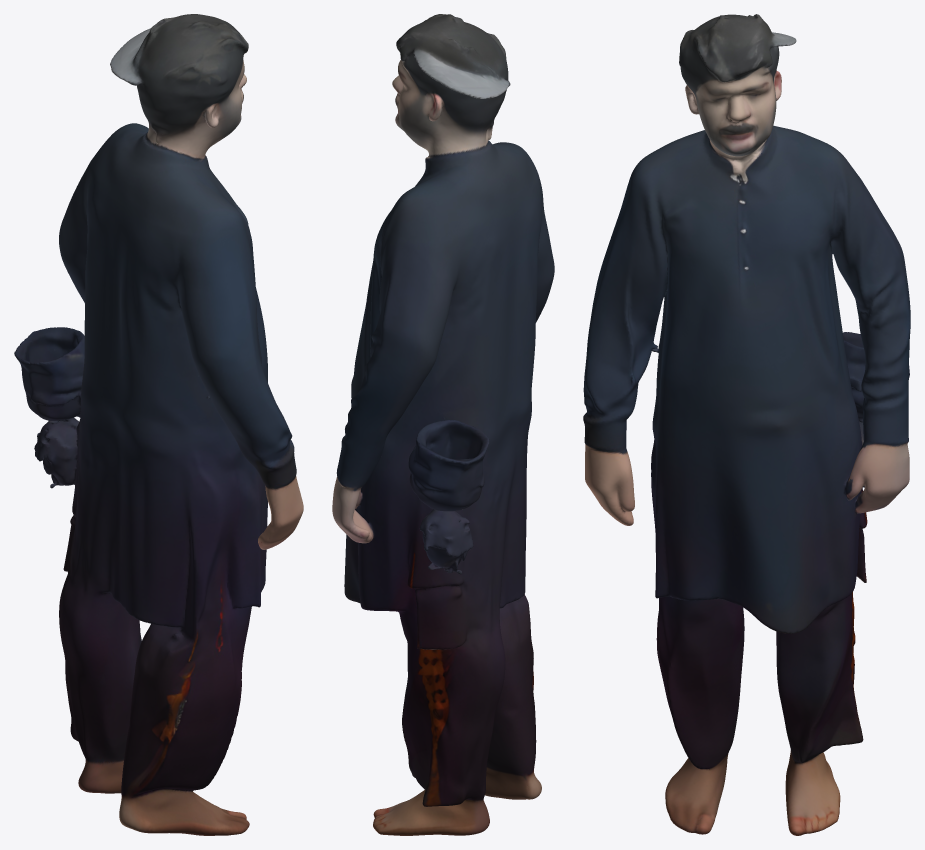
File: av_98236dad61f8.glb
The picture shows the model from 3 angles, left to right: view 1: azimuth 30°, elevation 25°; view 2: azimuth 150°, elevation 25°; view 3: azimuth 270°, elevation 25°; orthographic projection. The views are drawn at different scales.
Parts seen in each view (by area): view 1: tripo_node_f83ea897-6ce1-44d2-a5e7-8ffc4cbf523b; view 2: tripo_node_f83ea897-6ce1-44d2-a5e7-8ffc4cbf523b; view 3: tripo_node_f83ea897-6ce1-44d2-a5e7-8ffc4cbf523b.
Boxes of the visible parts, <box> form: tripo_node_f83ea897-6ce1-44d2-a5e7-8ffc4cbf523b: <box>14,14,303,835</box>; tripo_node_f83ea897-6ce1-44d2-a5e7-8ffc4cbf523b: <box>332,14,554,835</box>; tripo_node_f83ea897-6ce1-44d2-a5e7-8ffc4cbf523b: <box>583,14,910,835</box>.
Size of the model in its own units: 0.2397 by 1 by 0.3711.
1 material, 1 textured.
